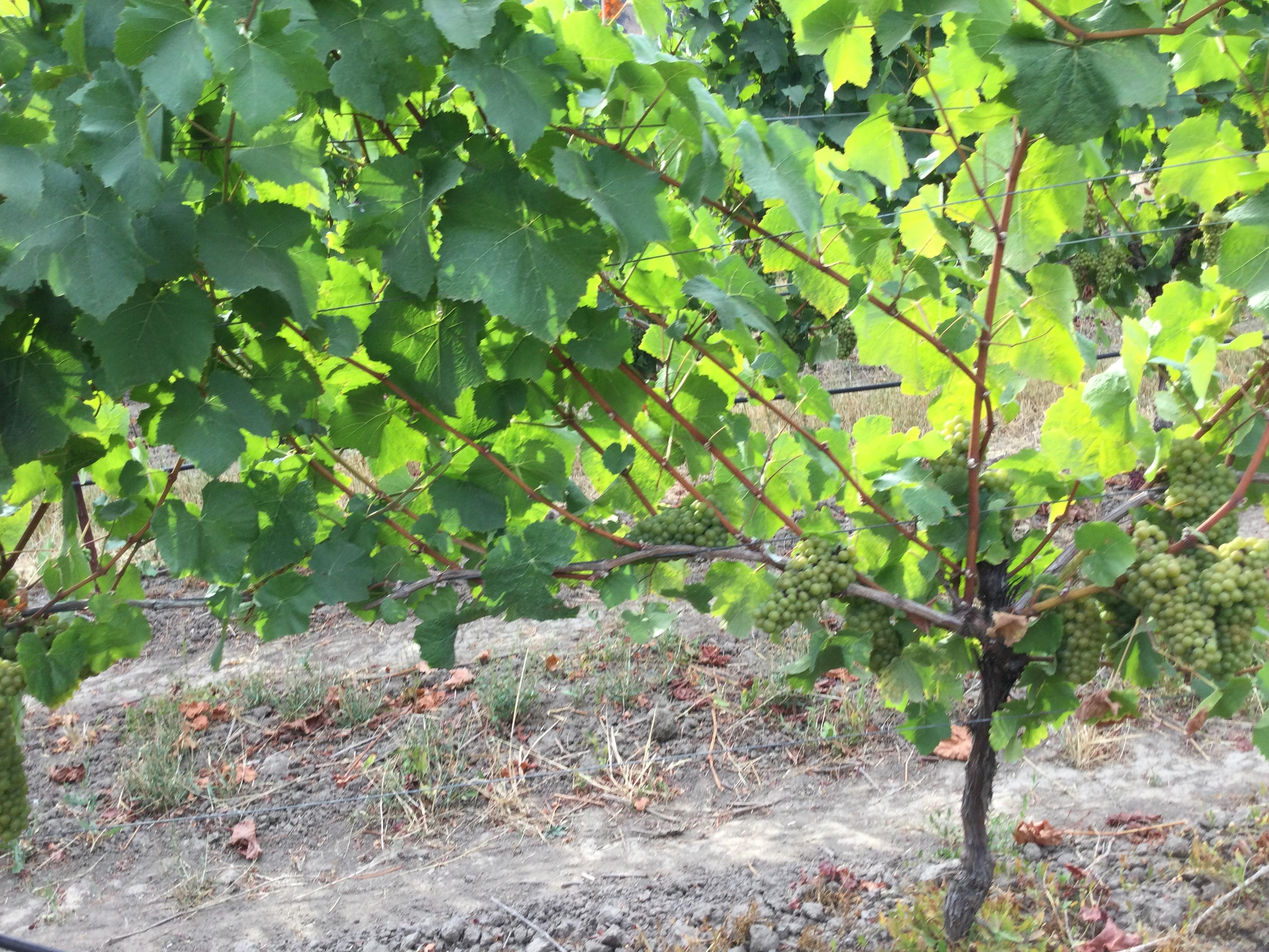leaf: (438, 165, 606, 341), (0, 161, 143, 317), (994, 24, 1170, 144), (348, 155, 462, 296), (202, 4, 328, 131), (77, 283, 215, 394), (447, 21, 562, 153), (17, 593, 150, 707), (198, 202, 325, 319), (363, 294, 486, 414), (318, 0, 441, 118), (71, 63, 162, 210), (0, 317, 89, 465), (552, 149, 668, 259), (114, 0, 212, 116), (152, 481, 259, 584), (1156, 113, 1265, 211), (998, 263, 1084, 385), (736, 122, 822, 240), (482, 522, 576, 620), (155, 379, 246, 474), (1040, 388, 1135, 477), (780, 0, 873, 86), (1159, 14, 1253, 93), (132, 166, 196, 281), (243, 338, 321, 430), (247, 472, 316, 575), (232, 118, 327, 192), (71, 592, 151, 674), (412, 588, 490, 668), (1146, 280, 1218, 362), (560, 9, 634, 81), (16, 629, 84, 707), (704, 561, 772, 635), (843, 112, 908, 187), (327, 385, 393, 457), (254, 571, 320, 640), (308, 535, 374, 604), (429, 476, 505, 532), (1219, 224, 1268, 310), (566, 307, 632, 369), (1073, 521, 1136, 585), (424, 0, 500, 48), (0, 144, 42, 211), (898, 702, 951, 754), (737, 19, 788, 72), (902, 482, 957, 527), (622, 601, 680, 643), (877, 654, 924, 705), (1199, 675, 1253, 718), (1012, 612, 1063, 655), (632, 0, 668, 37), (601, 443, 636, 474), (1251, 712, 1268, 757), (1177, 332, 1187, 345), (1221, 262, 1228, 280), (1164, 285, 1172, 293), (746, 21, 754, 26), (1186, 291, 1194, 296), (1222, 242, 1225, 252), (1185, 284, 1192, 287), (883, 49, 889, 52), (4, 465, 7, 469), (1225, 233, 1227, 239), (1182, 348, 1183, 354), (764, 66, 766, 68), (649, 4, 652, 5), (1156, 304, 1157, 306), (781, 63, 782, 64), (993, 725, 994, 725)
